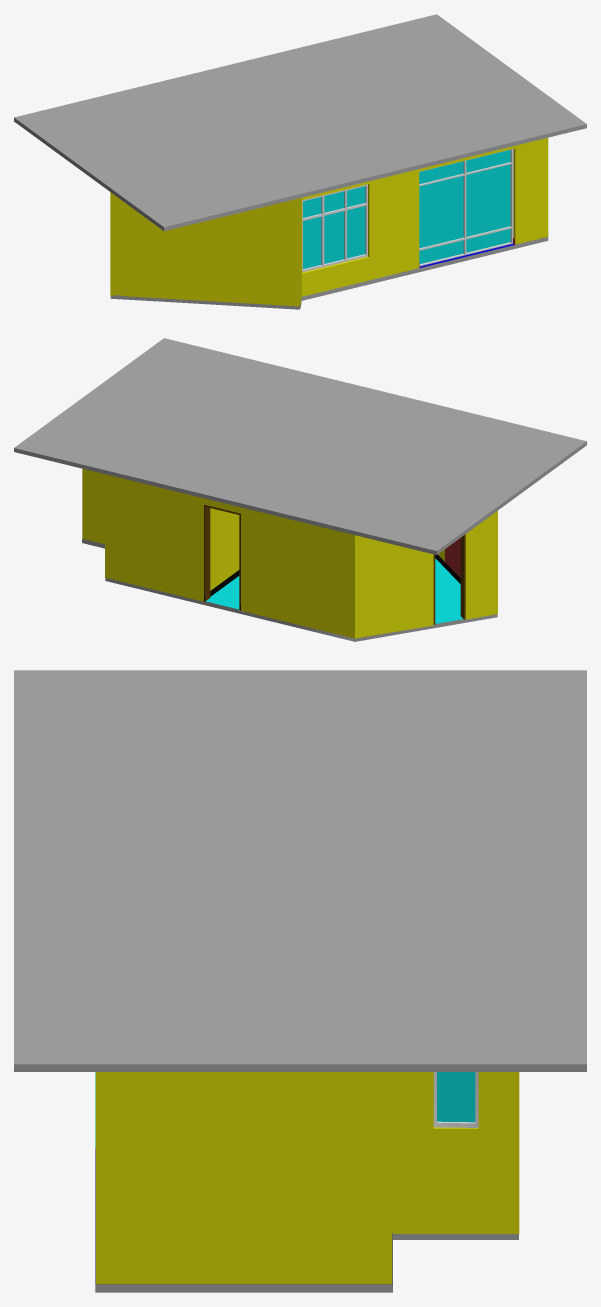
File: Wing_B_Flat_No_04_Type02MtID.fbx
3 renders of one model, top to bottom at view 1: azimuth 30°, elevation 25°; view 2: azimuth 150°, elevation 25°; view 3: azimuth 270°, elevation 25°, orthographic. The views are drawn at different scales.
Visible parts, largest first — view 1: Roof1, Flat_04_wall_01, balacony_door:Door_Glass1, Glass1, Flat_04_Floor_01, balacony_door:Flat_No_03_Type03:Door_frame_03, Window_Frame; view 2: Roof1, Flat_04_wall_01, Flat_04_Floor_01, Flat_No_01_Type02:Flat_No_01_Type01:Flat_No_03_celling__Door, pCube4; view 3: Roof1, Flat_04_wall_01, Flat_04_Floor_01, BathRoom_Window:Glass3.
Boxes of the visible parts, <box> form: Roof1: <box>14,14,586,231</box>; Flat_04_wall_01: <box>110,137,548,306</box>; balacony_door:Door_Glass1: <box>419,149,510,263</box>; Glass1: <box>303,186,365,268</box>; Flat_04_Floor_01: <box>110,237,548,309</box>; balacony_door:Flat_No_03_Type03:Door_frame_03: <box>419,148,513,266</box>; Window_Frame: <box>302,184,367,272</box>; Roof1: <box>14,338,586,554</box>; Flat_04_wall_01: <box>82,468,497,638</box>; Flat_04_Floor_01: <box>82,539,497,641</box>; Flat_No_01_Type02:Flat_No_01_Type01:Flat_No_03_celling__Door: <box>204,504,240,609</box>; pCube4: <box>433,534,465,624</box>; Roof1: <box>14,670,586,1071</box>; Flat_04_wall_01: <box>95,1072,519,1284</box>; Flat_04_Floor_01: <box>95,1072,518,1292</box>; BathRoom_Window:Glass3: <box>437,1072,475,1122</box>.
Bounding box in the file's own units: 1092 × 316 × 671.
